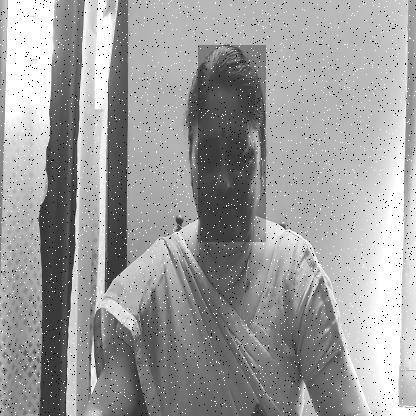Normal: (198, 45, 266, 242)
